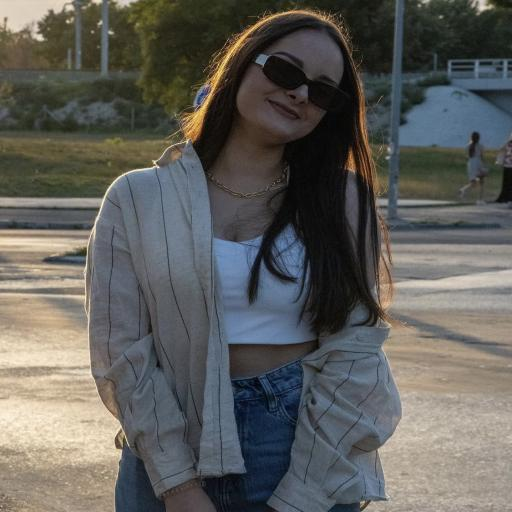marija: (235, 30, 347, 142)
